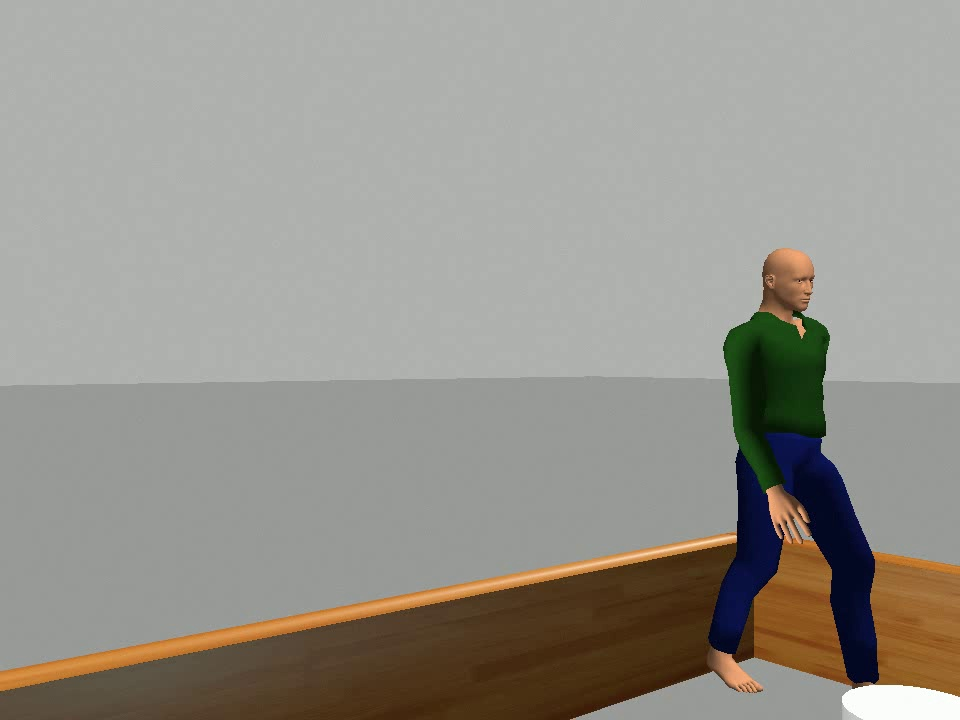person: (703, 244, 895, 708)
